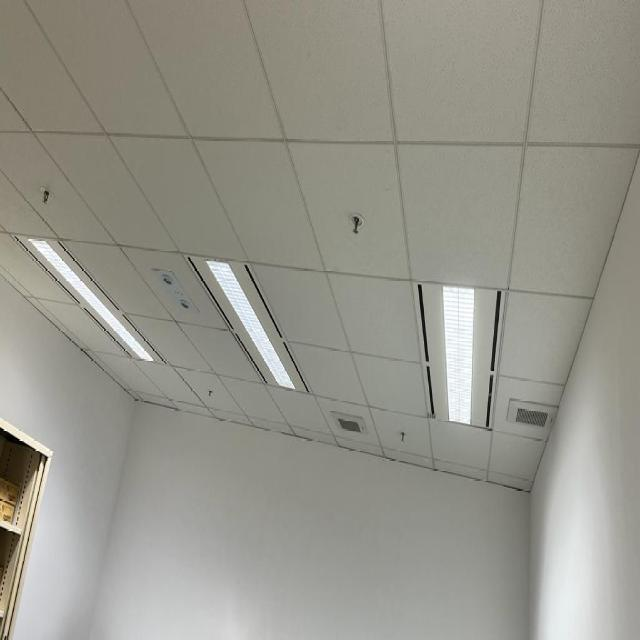Light-Opened: (10, 237, 166, 364), (182, 251, 311, 390), (411, 280, 507, 431)
